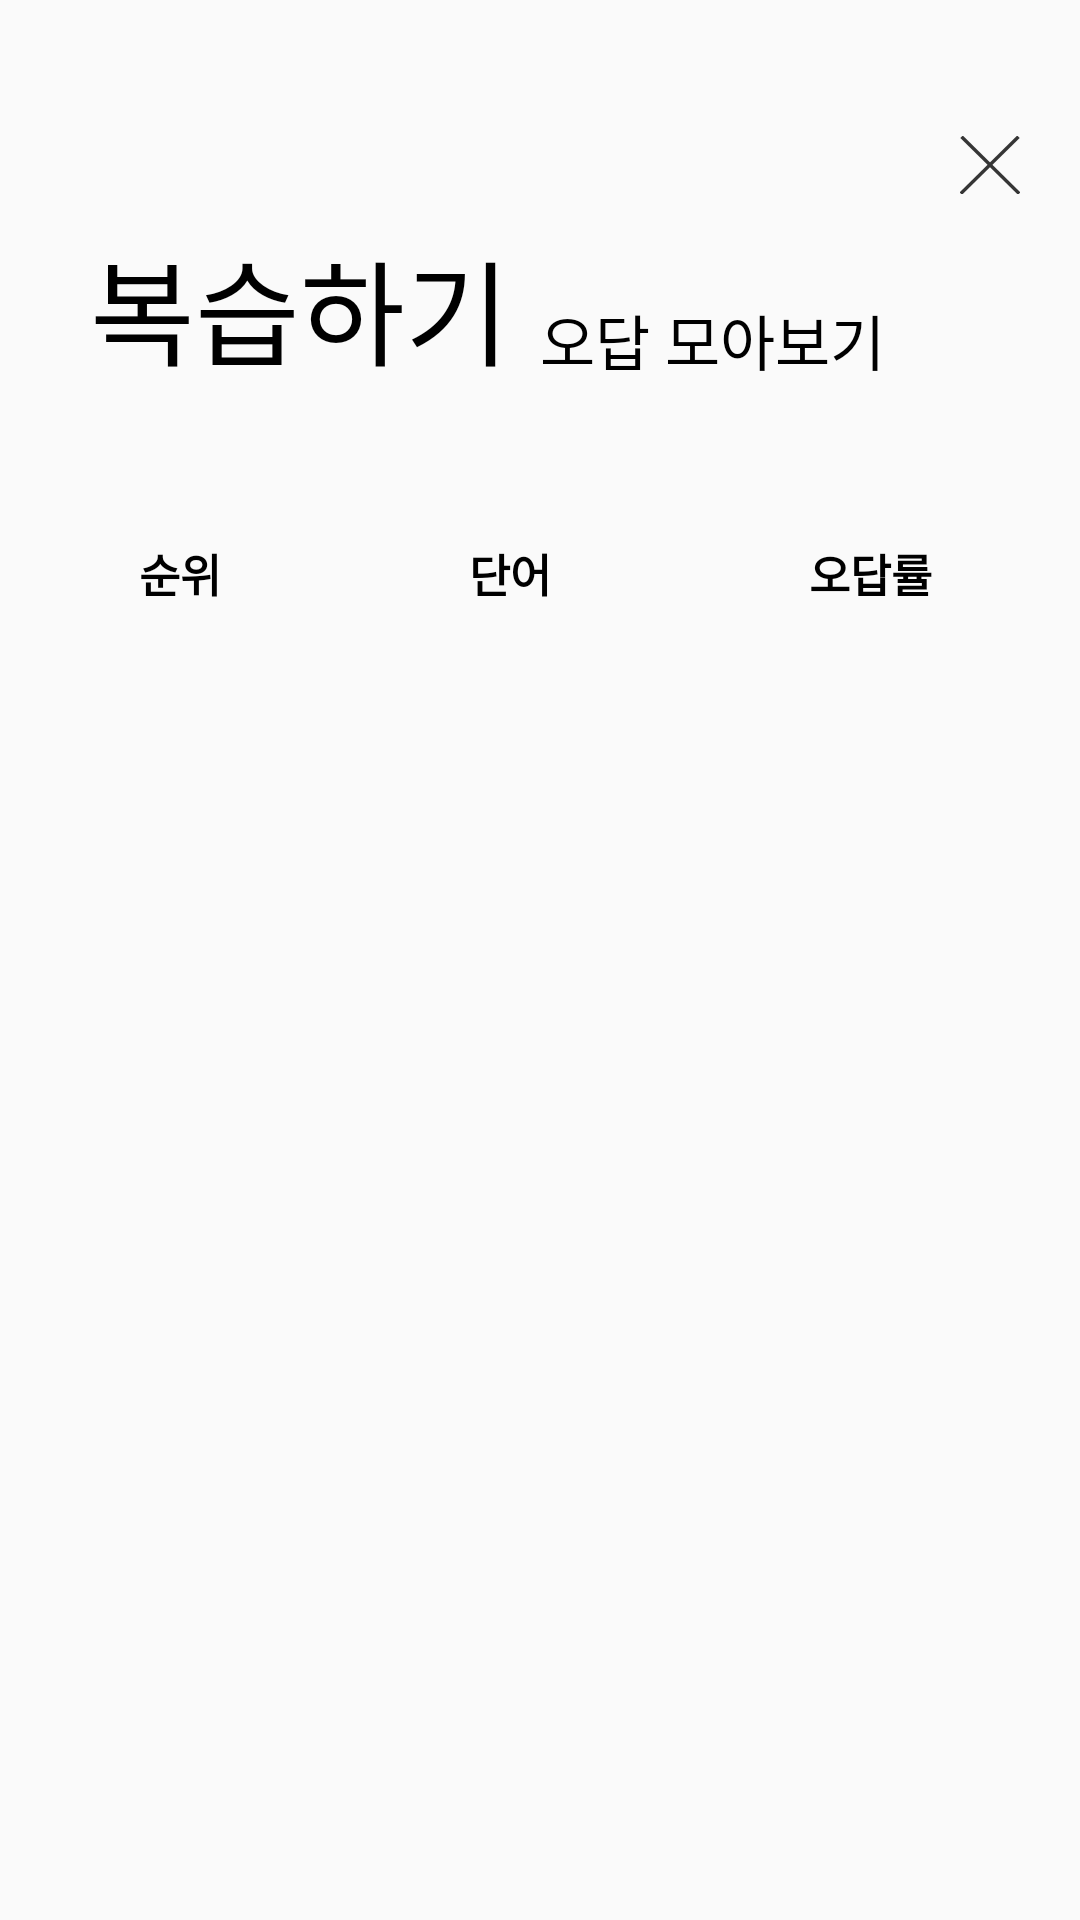

Named icons in this screenshot (1080w x 1920h) and their bounding boxes, BBox(x1, y1, x2, y2):
close: BBox(960, 136, 1020, 194)
